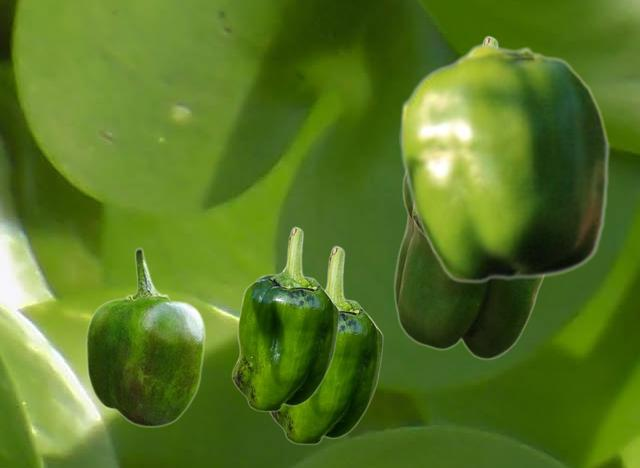bell_pepper: (399, 42, 609, 283), (393, 175, 543, 359), (269, 245, 382, 444), (85, 247, 205, 427), (231, 226, 338, 411)
